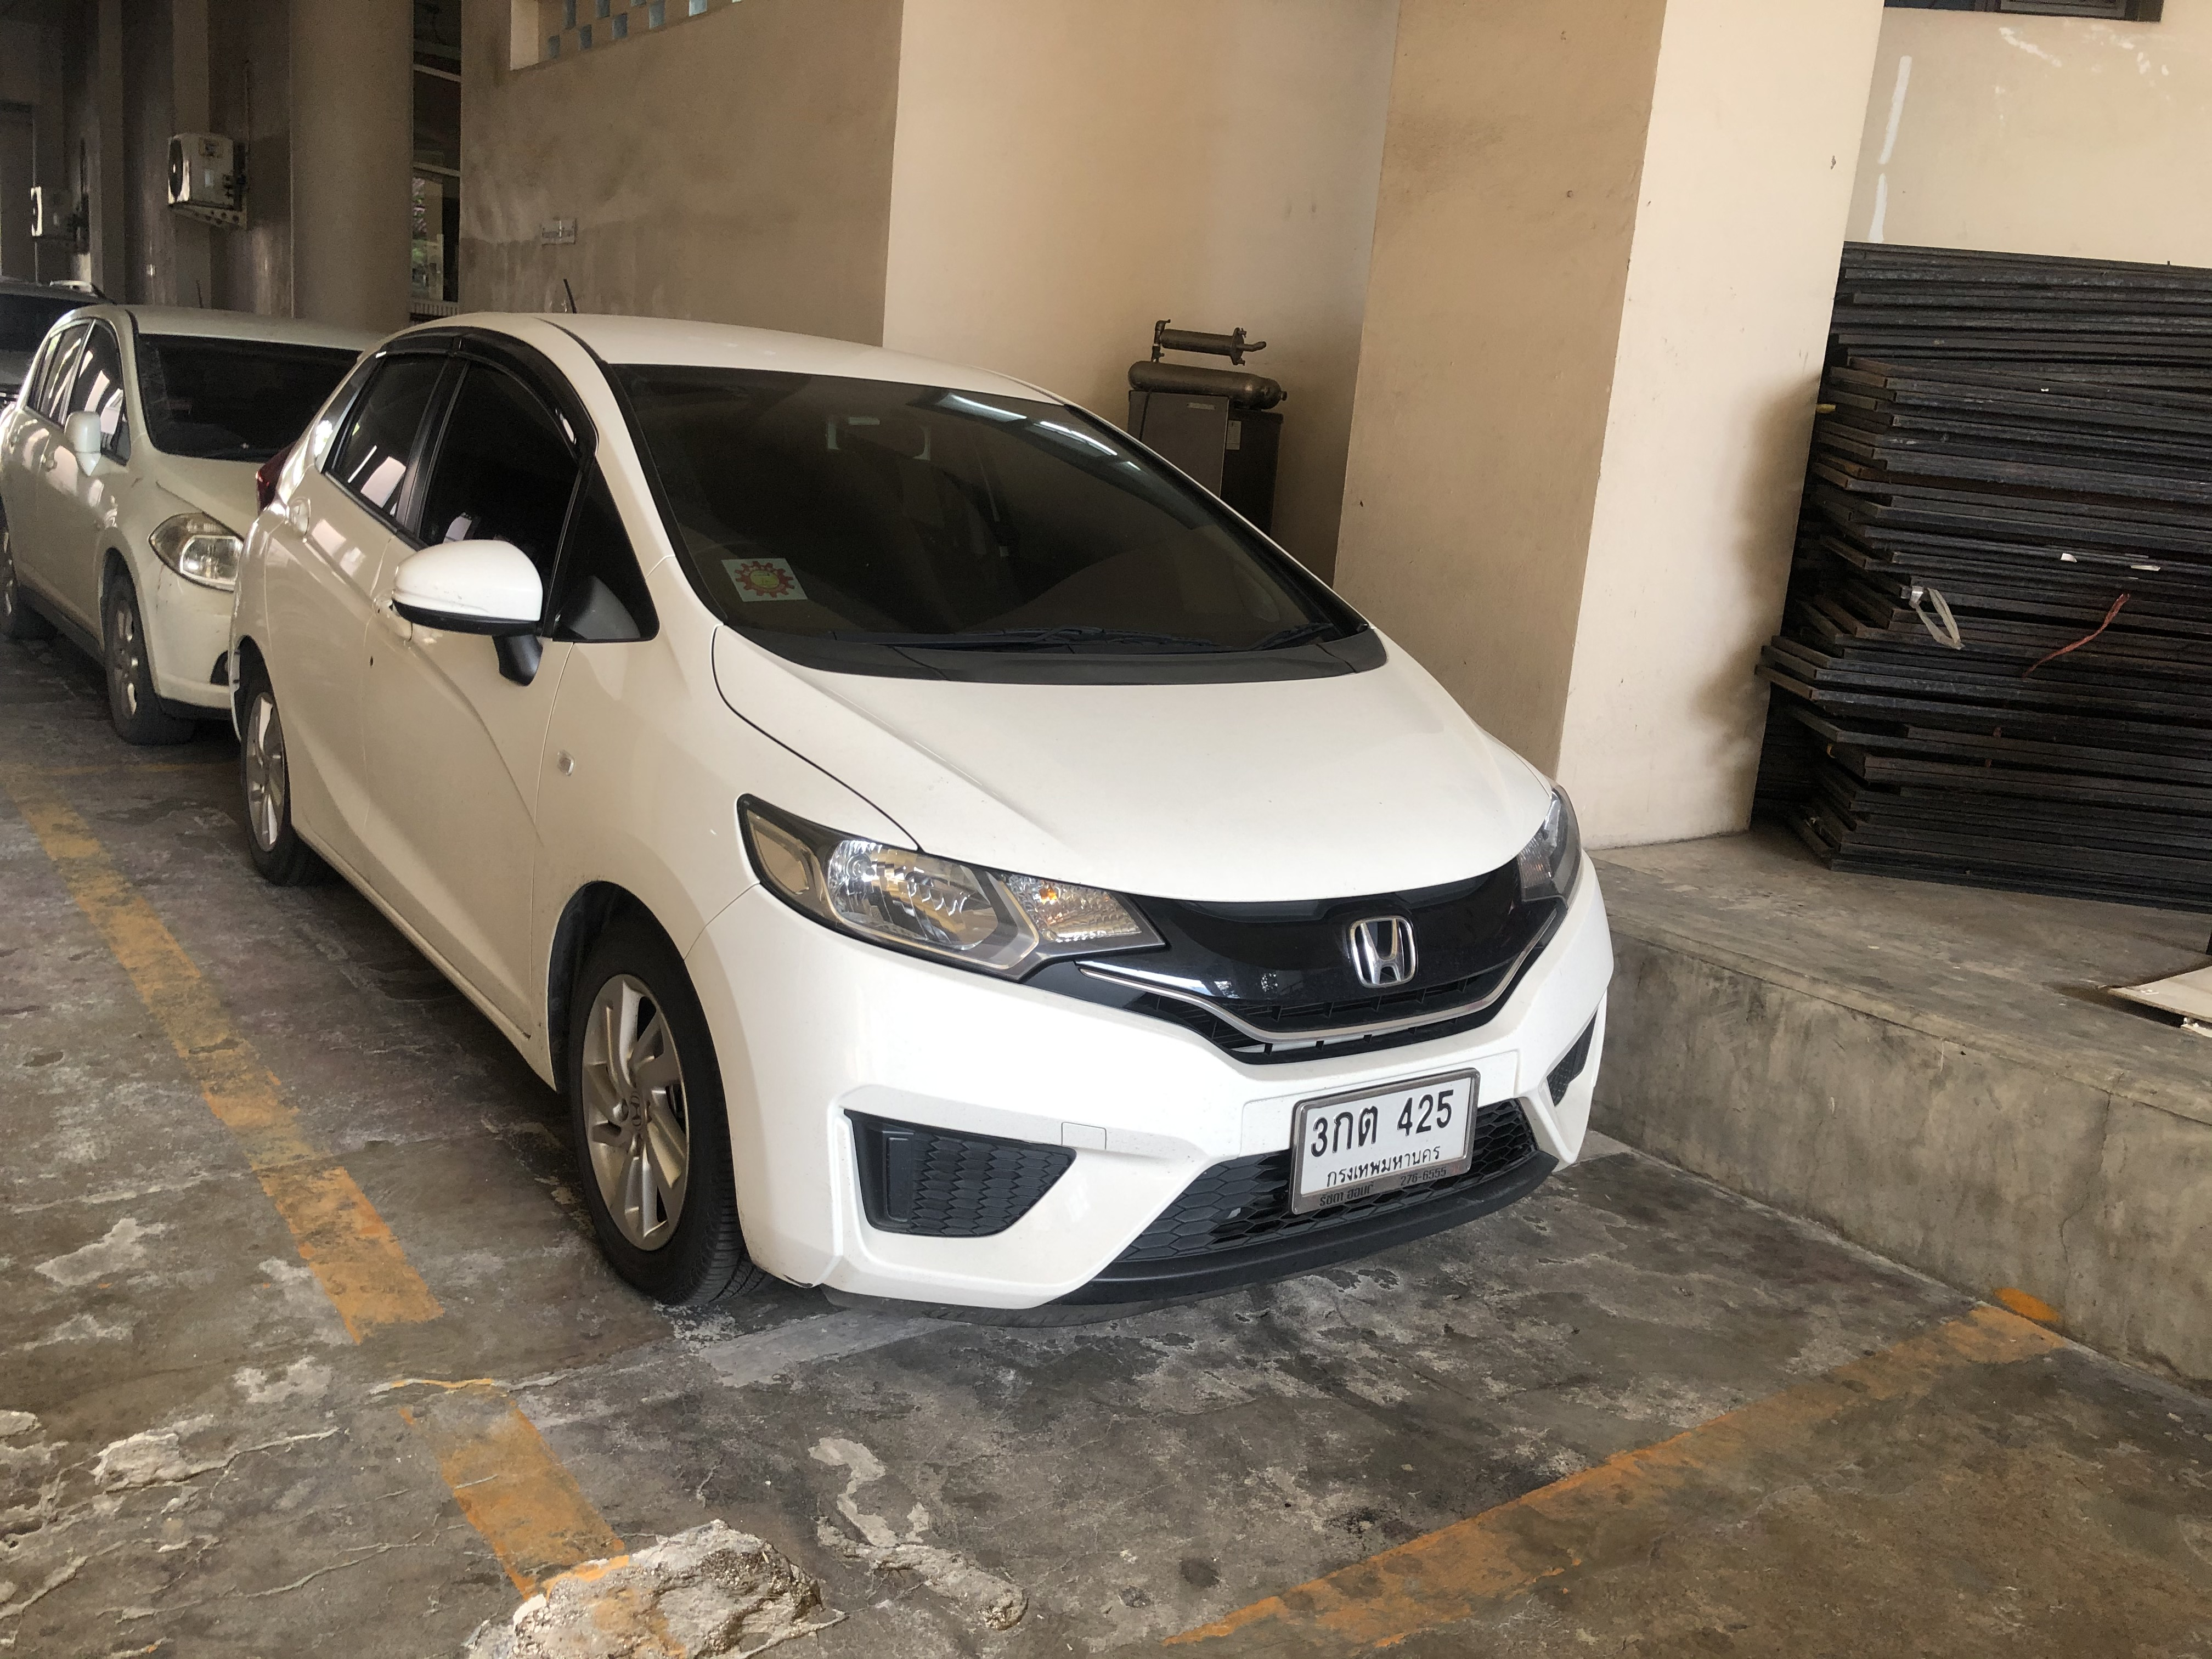in: (1298, 1077, 1470, 1197)
out: (1285, 1068, 1479, 1218)
